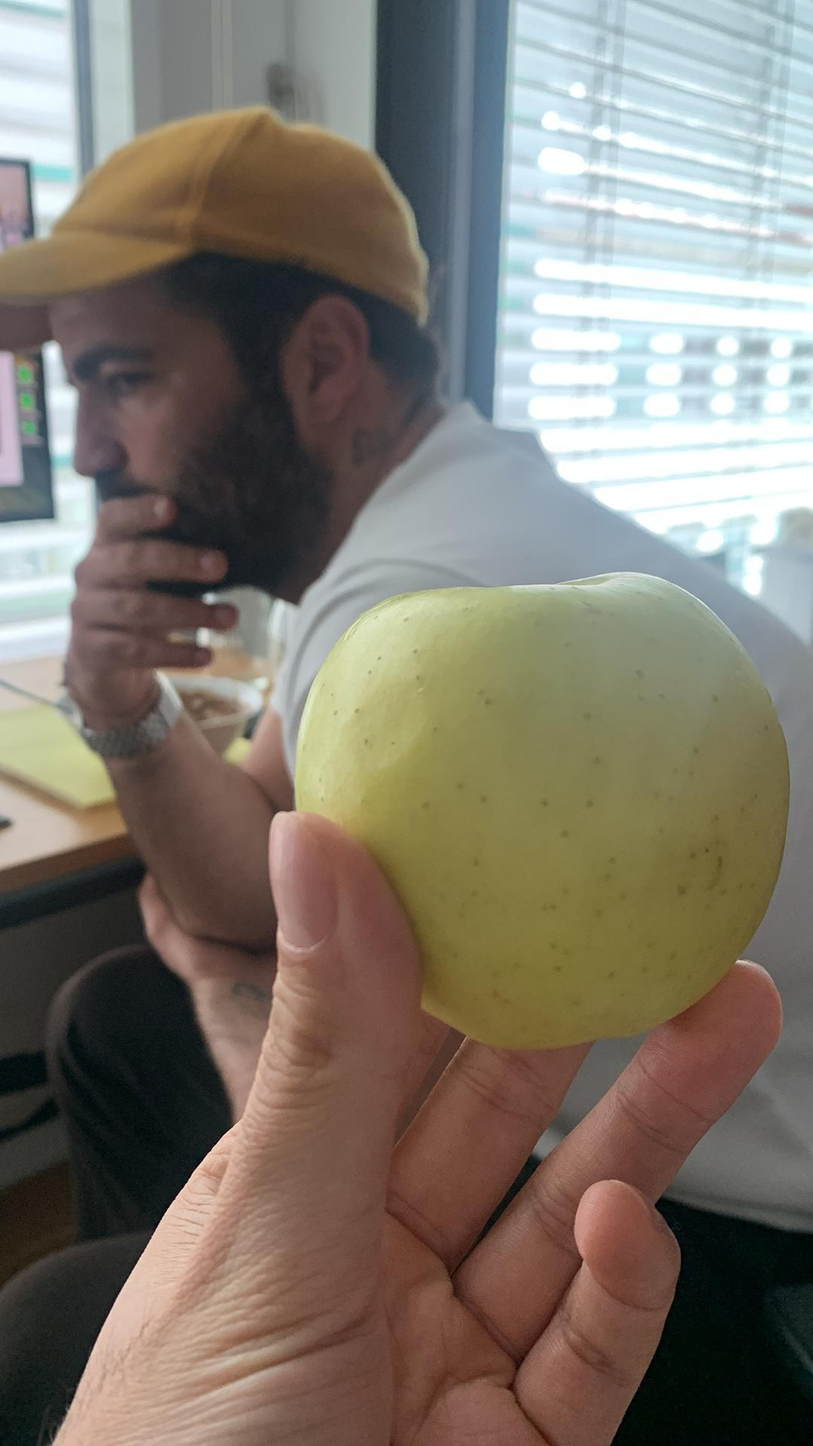apple: (289, 555, 801, 1062)
